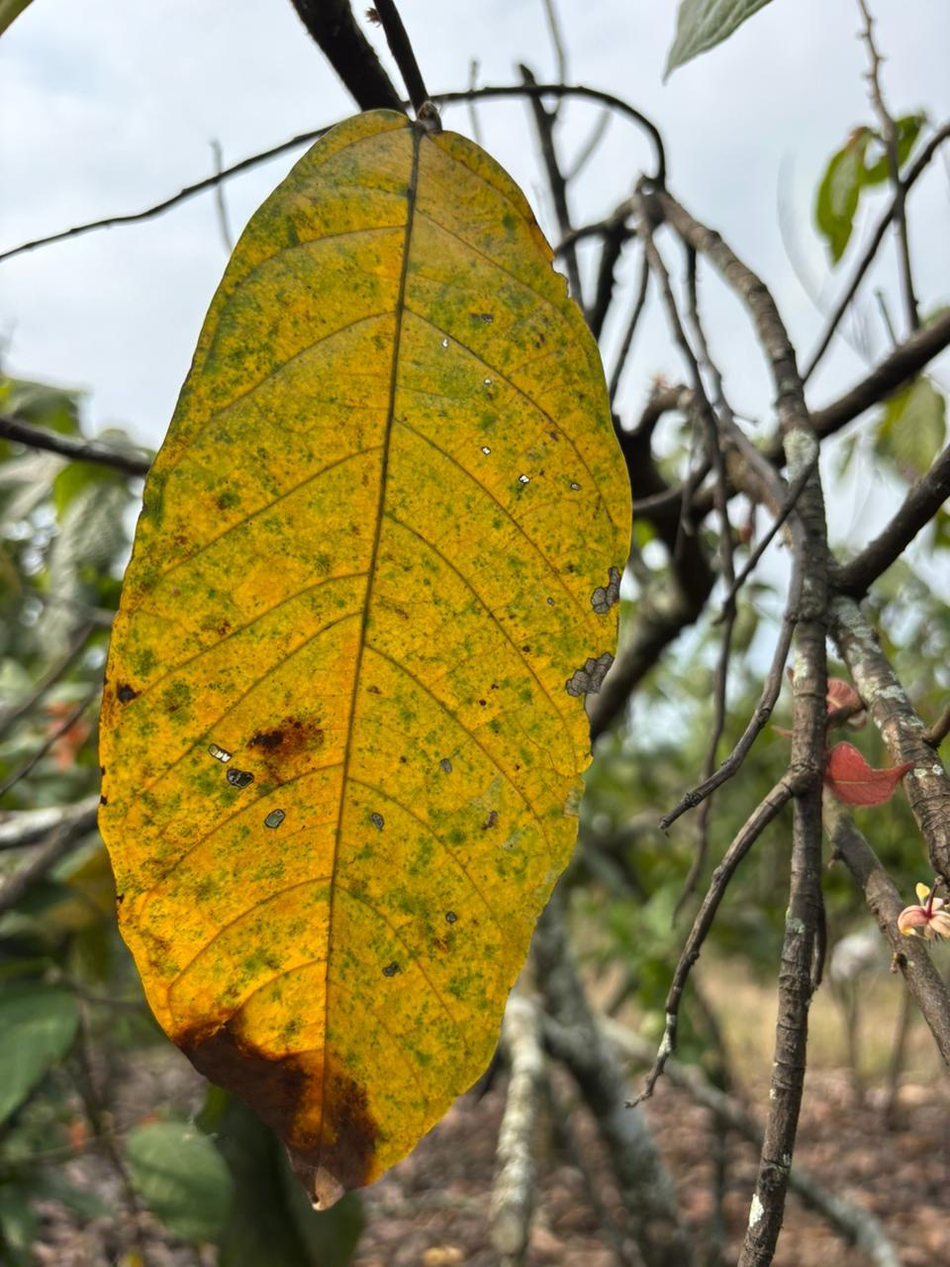deficienciia_fosforo: (99, 111, 629, 1205)
